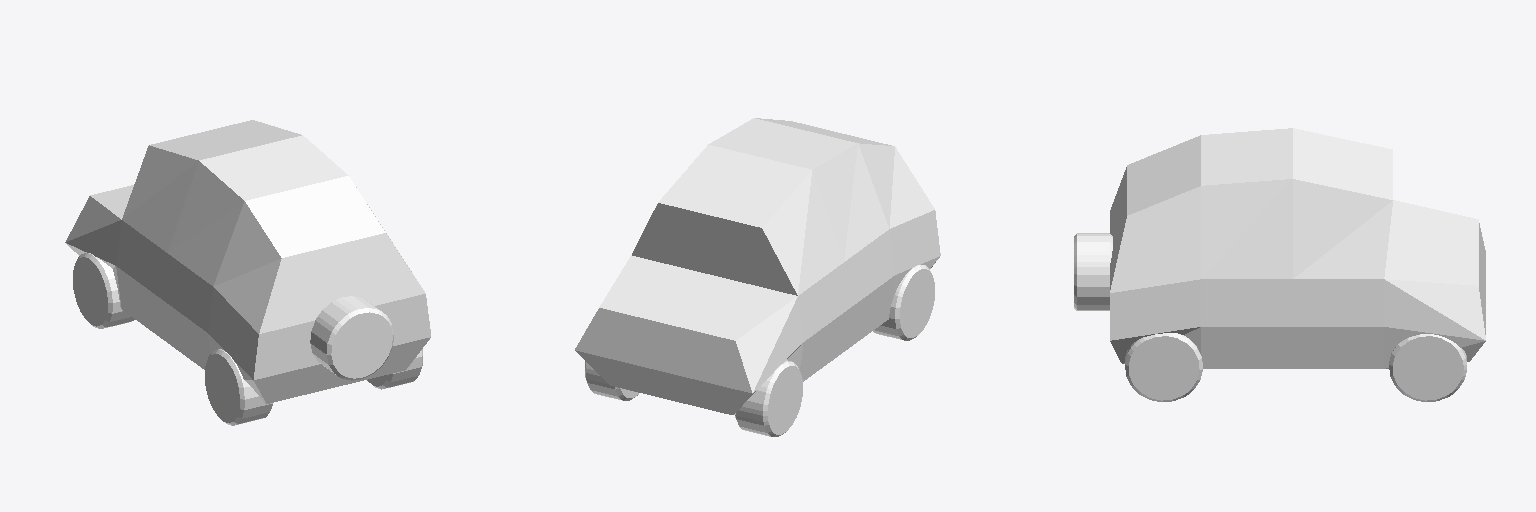
File: car.obj
3 renders of one model, left to right at view 1: azimuth 30°, elevation 25°; view 2: azimuth 150°, elevation 25°; view 3: azimuth 270°, elevation 25°, orthographic.
Parts seen in each view (by area): view 1: pCylinder6; view 2: pCylinder6; view 3: pCylinder6.
Boxes of the visible parts, box(x1,y1,x2,y2) form: pCylinder6: box(65, 120, 430, 425); pCylinder6: box(575, 118, 940, 436); pCylinder6: box(1074, 128, 1485, 401).
Bounding box in the file's own units: 52.84 × 56.83 × 103.